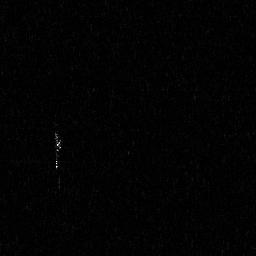ship: (53, 120, 63, 193)
